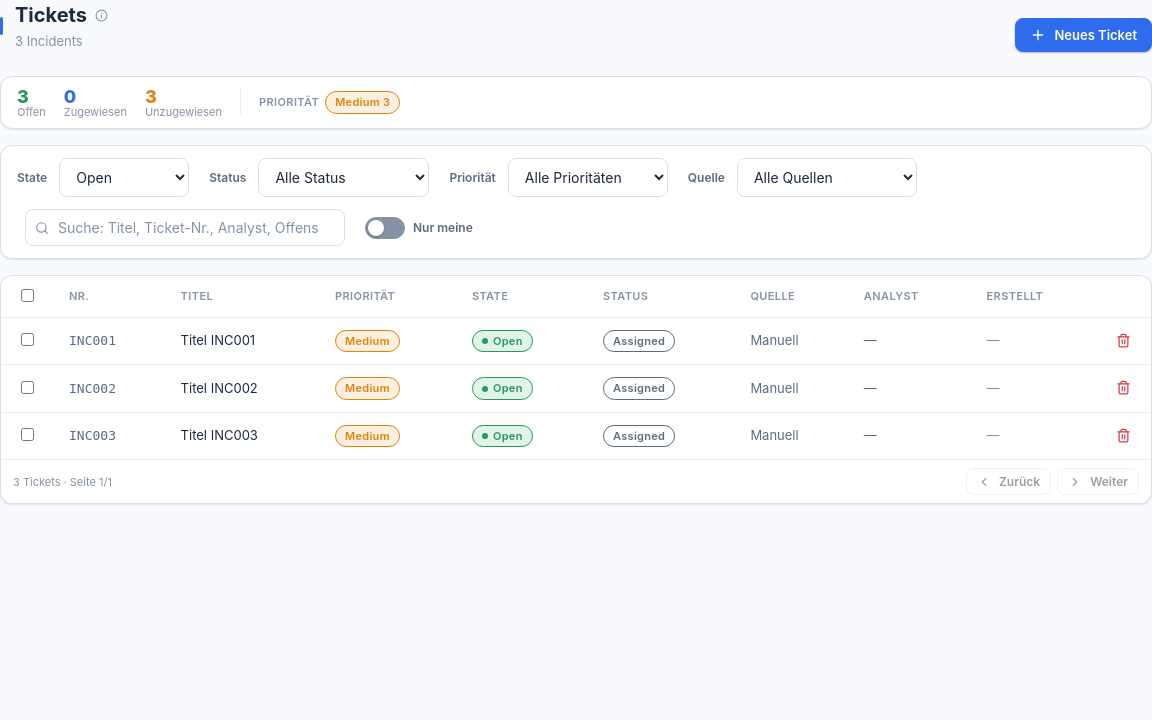
Test: TicketsPage — Bulk Delete › setzt die Auswahl erst NACH Erfolg zurück
Expected: the link "Titel INC001" is shown, 181,332 -> 255,348
What coordinates should you click on to do the following:
click the checkbox named "Ticket INC001 auswählen"
I would click on:
 (28, 340)
Its box is 21,333 -> 34,346.
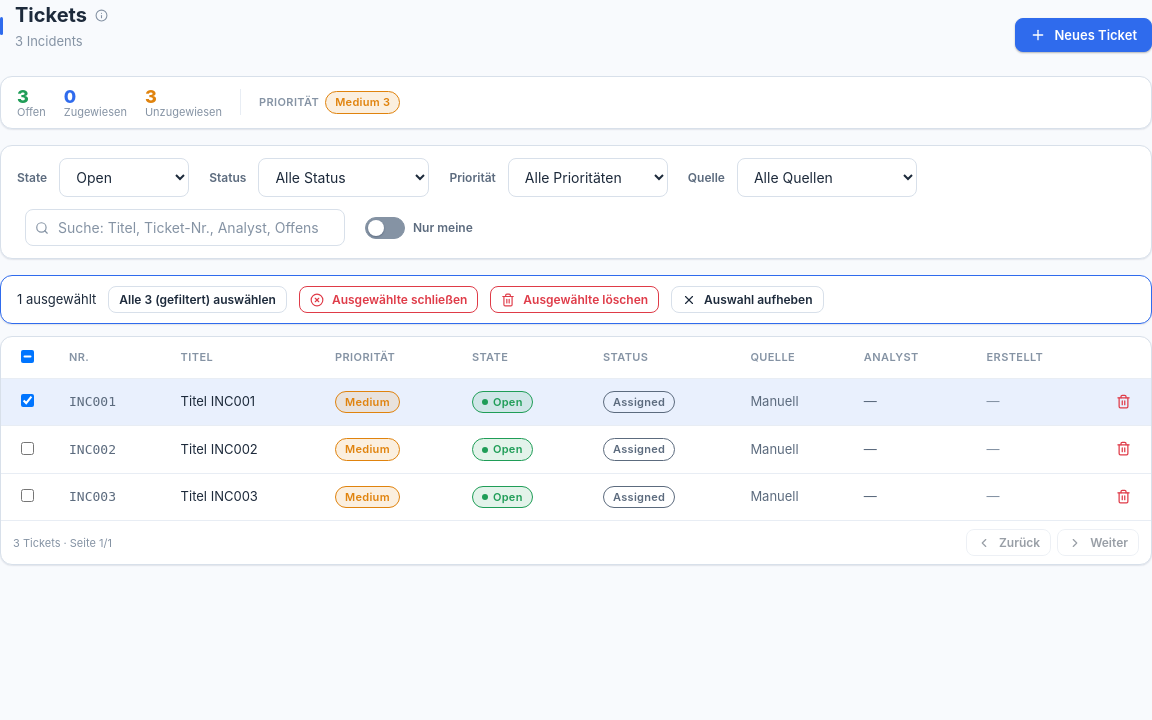
What coordinates should you click on to do the following:
click the checkbox named "Ticket INC002 auswählen"
I would click on:
 (28, 448)
Its box is 21,442 -> 34,455.
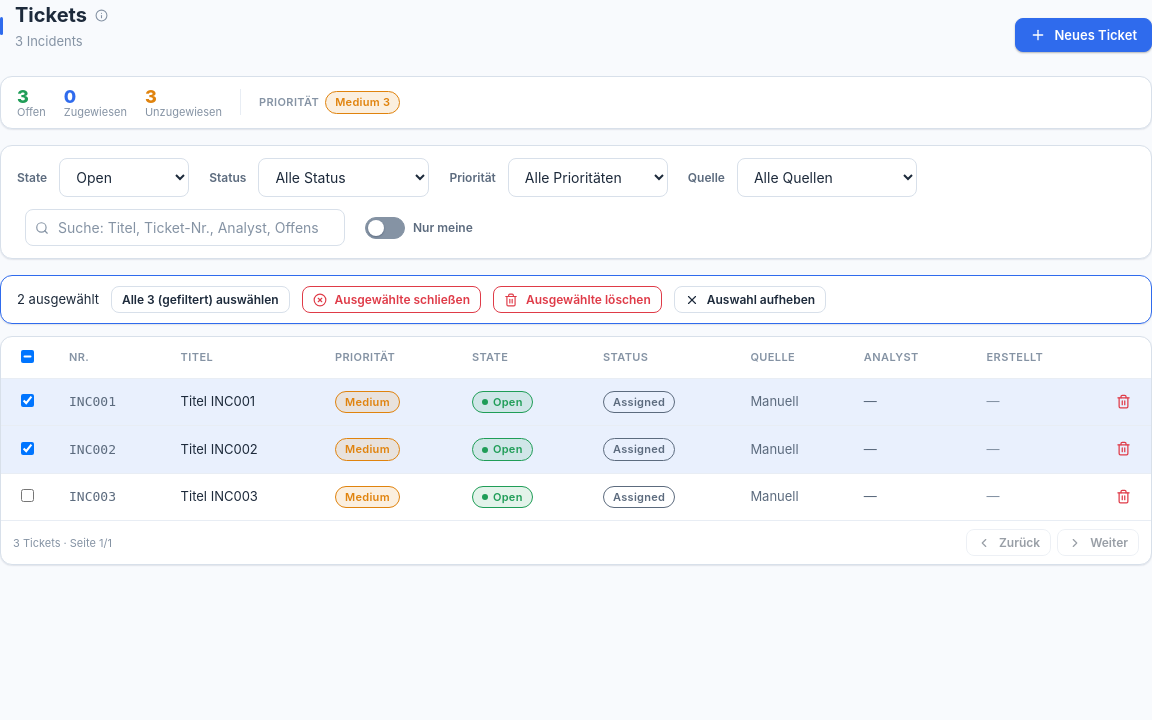
Expected: the text "2 ausgewählt" is shown, 17,290 -> 99,310
What coordinates should you click on to do the following:
click the button "Ausgewählte löschen"
I would click on:
 (577, 300)
Its box is 493,286 -> 662,313.
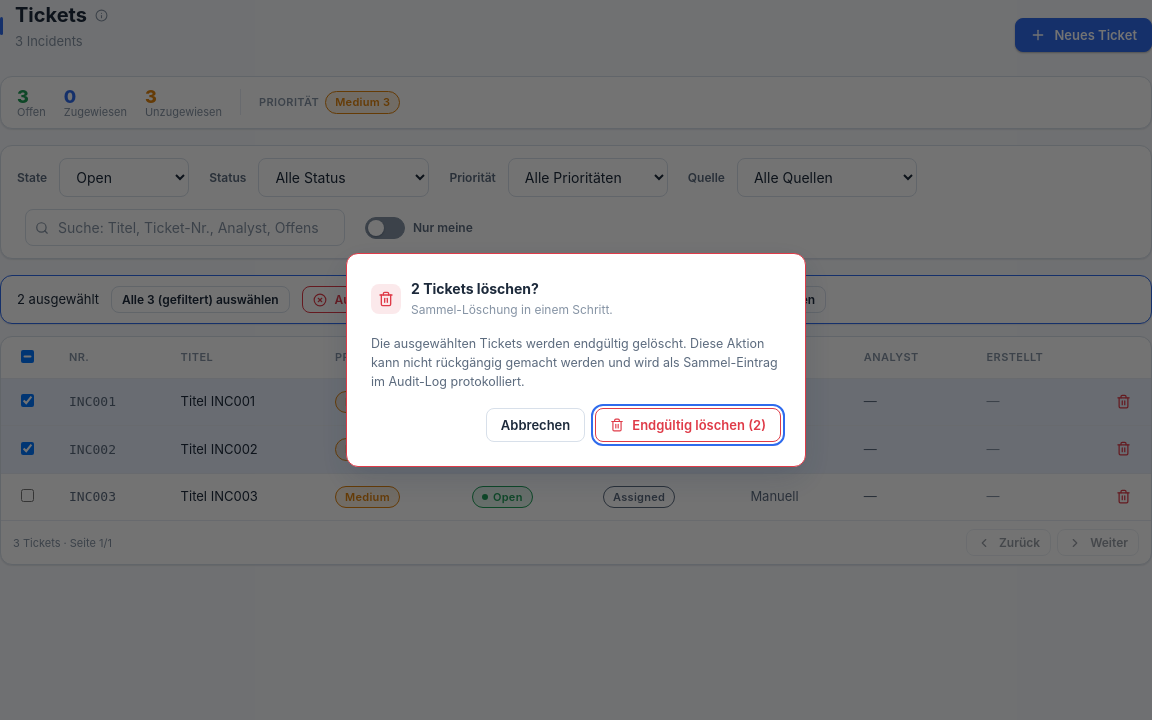
What coordinates should you click on to do the following:
click the button "Endgültig löschen (2)"
I would click on:
 (688, 425)
Its box is 595,408 -> 781,442.
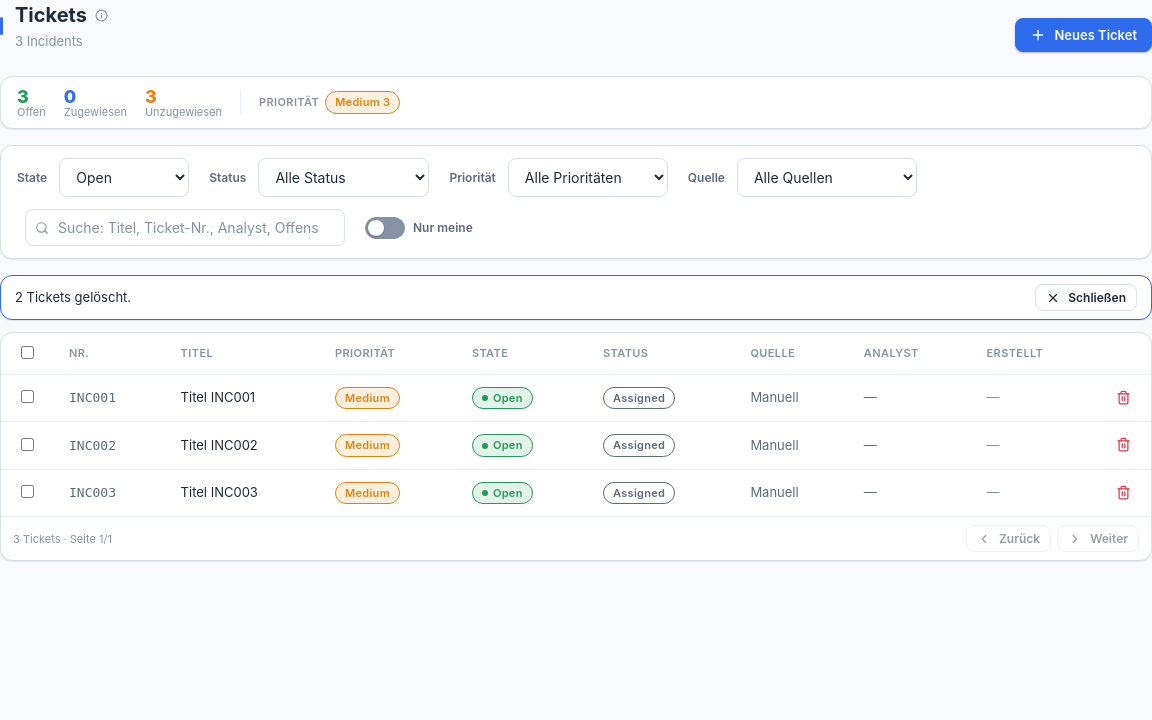
Expected: the text "2 ausgewählt" is gone
